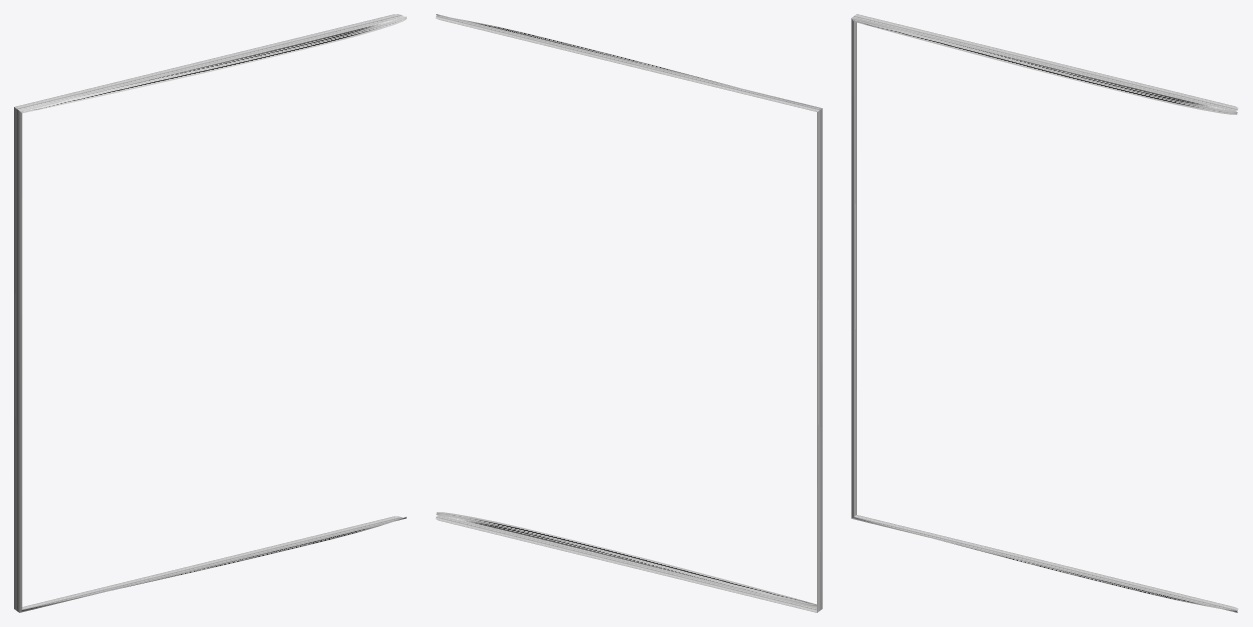
The model's file is MeshBook_10_0_GeomSubset_1.obj.
3 renders of one model, left to right at view 1: azimuth 30°, elevation 25°; view 2: azimuth 150°, elevation 25°; view 3: azimuth 330°, elevation 25°, orthographic.
Visible parts, largest first — view 1: MeshBook_10_0_GeomSubset_1; view 2: MeshBook_10_0_GeomSubset_1; view 3: MeshBook_10_0_GeomSubset_1.
Part boxes in pixels (bbox=[...]): MeshBook_10_0_GeomSubset_1: bbox=[14, 14, 406, 612]; MeshBook_10_0_GeomSubset_1: bbox=[435, 14, 822, 612]; MeshBook_10_0_GeomSubset_1: bbox=[851, 14, 1238, 612].
Size of the model in its own units: 0.2429 by 0.3011 by 0.012.
